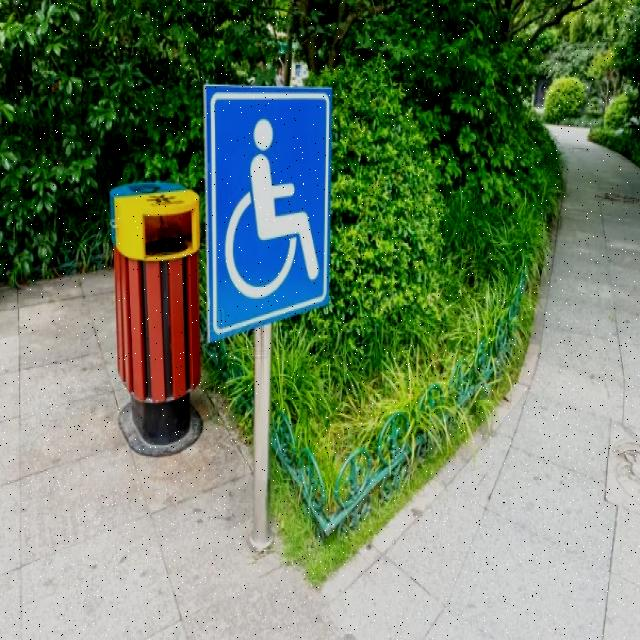symbol_of_access: (201, 79, 333, 348)
